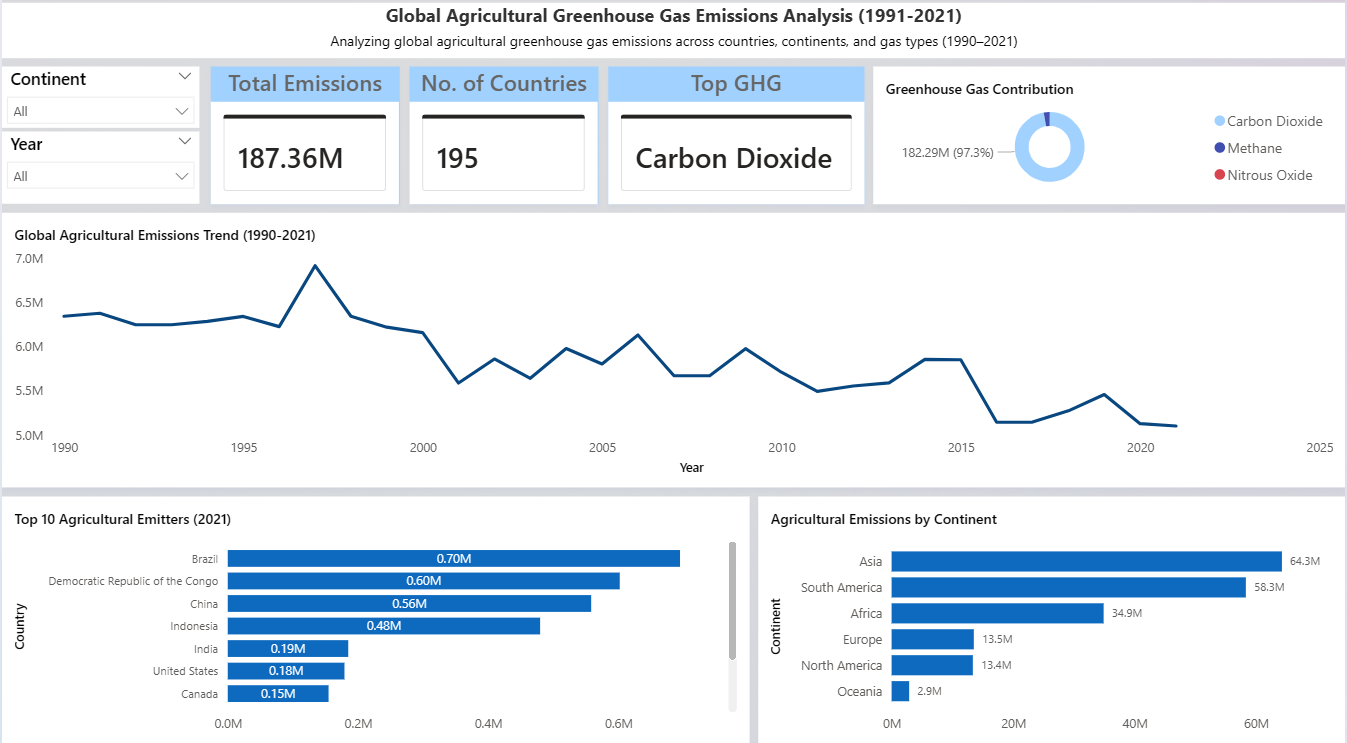

The page's visual inventory and layout, read from the dashboard file:
{"tool":"powerbi","page":{"name":"Page 1","canvas":[1280,720],"ordinal":0},"visuals":[{"type":"lineChart","title":"Global Agricultural Emissions Trend (1990-2021)","fields":{"Category":["GHG_Emissions_Final.Year"],"Y":["Sum(GHG_Emissions_Final.Emission)"]},"box":[0,208.3,1279.8,261.9],"z":0},{"type":"slicer","fields":{"Values":["GHG_Emissions_Final.Continent"]},"box":[0,69,188.1,58.3],"z":1000},{"type":"clusteredBarChart","title":"Agricultural Emissions by Continent","fields":{"Category":["GHG_Emissions_Final.Continent"],"Y":["Sum(GHG_Emissions_Final.Emission)"]},"box":[720.2,478.6,559.5,241.7],"z":2000},{"type":"donutChart","title":"Greenhouse Gas Contribution","fields":{"Category":["GHG_Emissions_Final.Gas_Type"],"Y":["Sum(GHG_Emissions_Final.Emission)"]},"box":[829.8,69,450,131],"z":3000},{"type":"textbox","title":"Global Agricultural Greenhouse Gas Emissions Analysis (1990-2021)","box":[0,8.4,1280,52.8],"z":4000},{"type":"cardVisual","title":"Total Emissions","fields":{"Data":["Sum(GHG_Emissions_Final.Emission)"]},"box":[198.8,69,179.8,131],"z":5000},{"type":"slicer","fields":{"Values":["GHG_Emissions_Final.Year"]},"box":[0,131,188.1,69],"z":6000},{"type":"cardVisual","title":"No. of Countries","fields":{"Data":["Count(GHG_Emissions_Final.Country)"]},"box":[388.1,69,179.8,131],"z":7000},{"type":"cardVisual","title":"Top GHG","fields":{"Data":["Min(GHG_Emissions_Final.Gas_Type)"]},"box":[577.4,69,244,131],"z":8000},{"type":"clusteredBarChart","title":"Top 10 Agricultural Emitters (2021)","fields":{"Category":["GHG_Emissions_Final.Country"],"Y":["Sum(GHG_Emissions_Final.Emission)"]},"box":[0,478.6,711.9,241.7],"z":9000}]}

Visuals, with their boxes in screenshot pixels (x1, y1, x2, y2), scaled from the page's 1280x720 canvas onto the 1347x743 screenshot:
"Global Agricultural Emissions Trend (1990-2021)" lineChart: Rect(0, 215, 1346, 485)
slicer - GHG_Emissions_Final.Continent: Rect(0, 71, 198, 131)
"Agricultural Emissions by Continent" clusteredBarChart: Rect(758, 494, 1346, 742)
"Greenhouse Gas Contribution" donutChart: Rect(873, 71, 1346, 206)
"Global Agricultural Greenhouse Gas Emissions Analysis (1990-2021)" textbox: Rect(0, 9, 1346, 63)
"Total Emissions" cardVisual: Rect(209, 71, 398, 206)
slicer - GHG_Emissions_Final.Year: Rect(0, 135, 198, 206)
"No. of Countries" cardVisual: Rect(408, 71, 598, 206)
"Top GHG" cardVisual: Rect(608, 71, 864, 206)
"Top 10 Agricultural Emitters (2021)" clusteredBarChart: Rect(0, 494, 749, 742)
